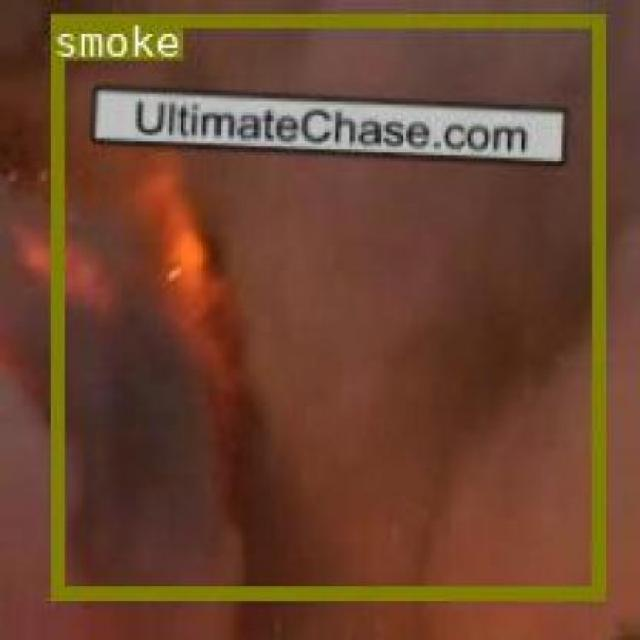Smoke: (49, 13, 603, 598)
